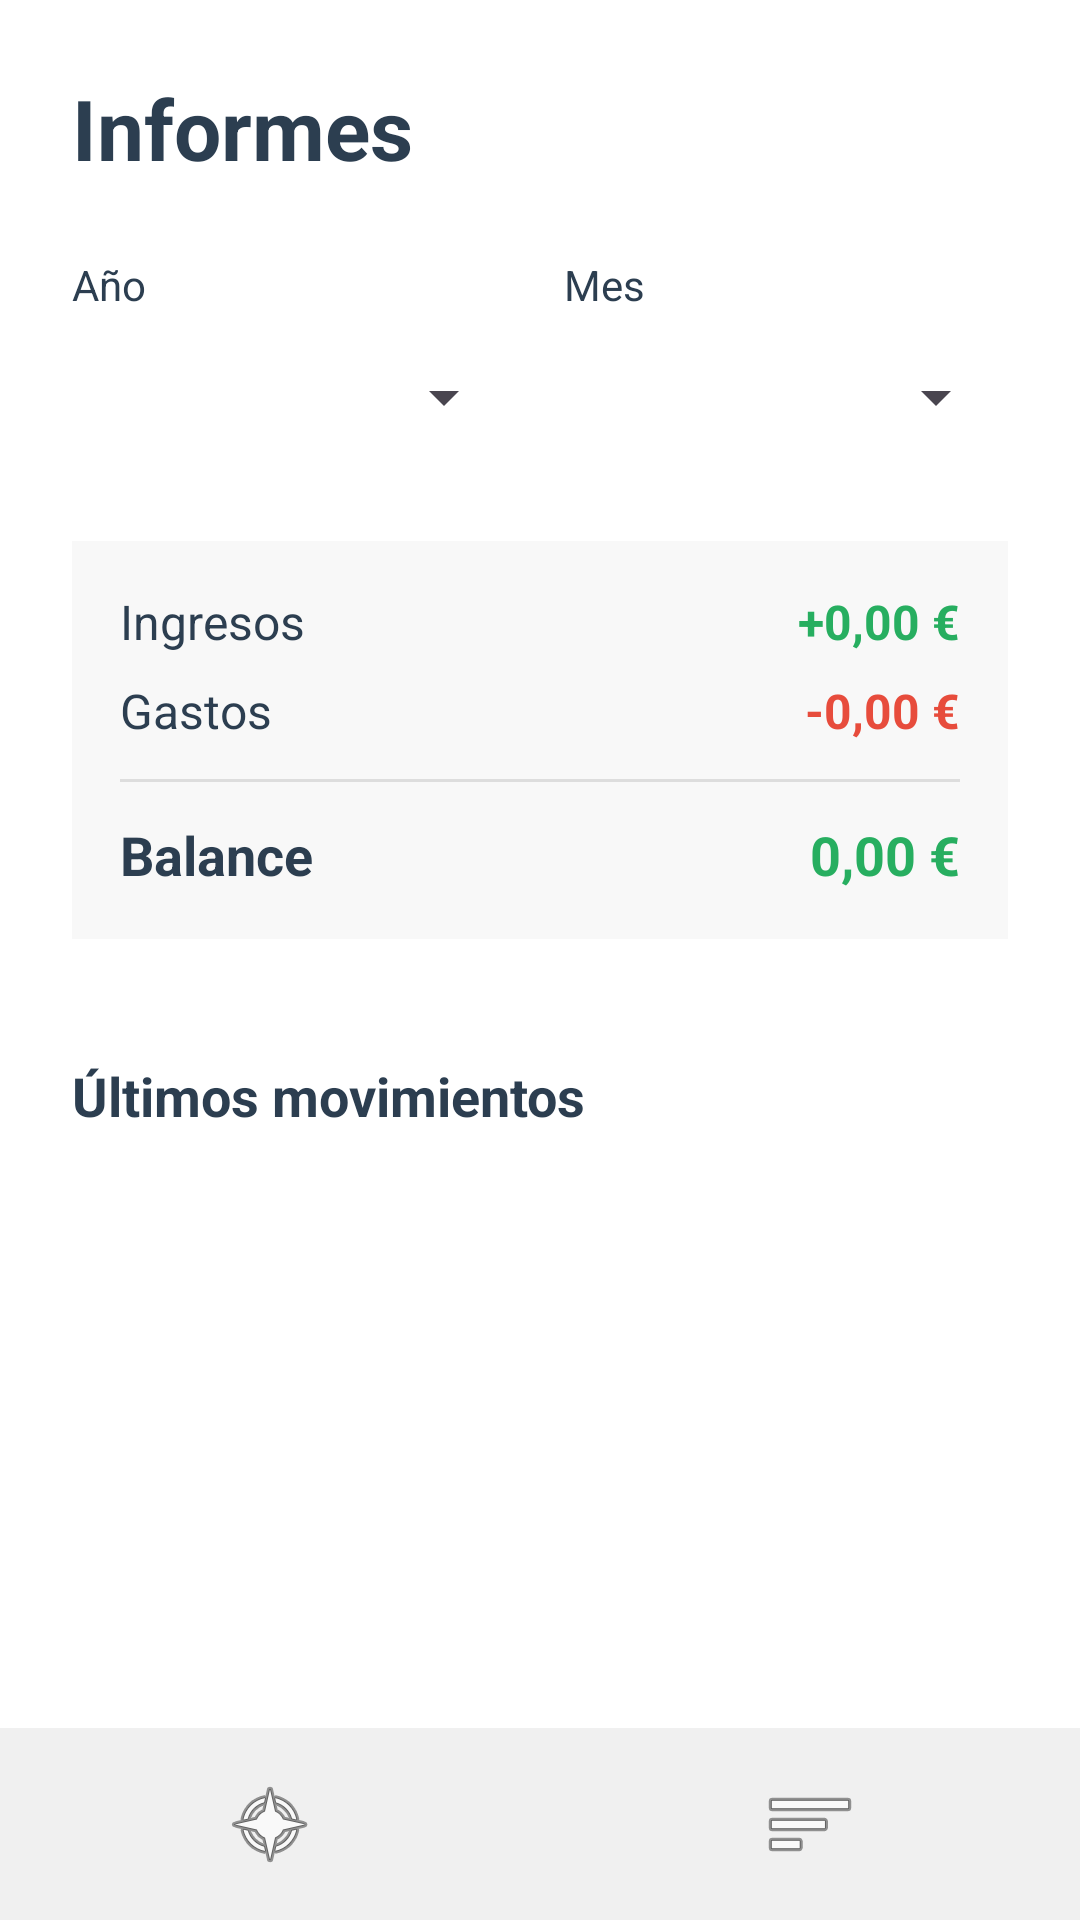

Icon bounding boxes for this 1080 × 1920 phone screenshot, format (x1,y1,x2,y2):
Ir a informes: (769,1798,851,1851)
